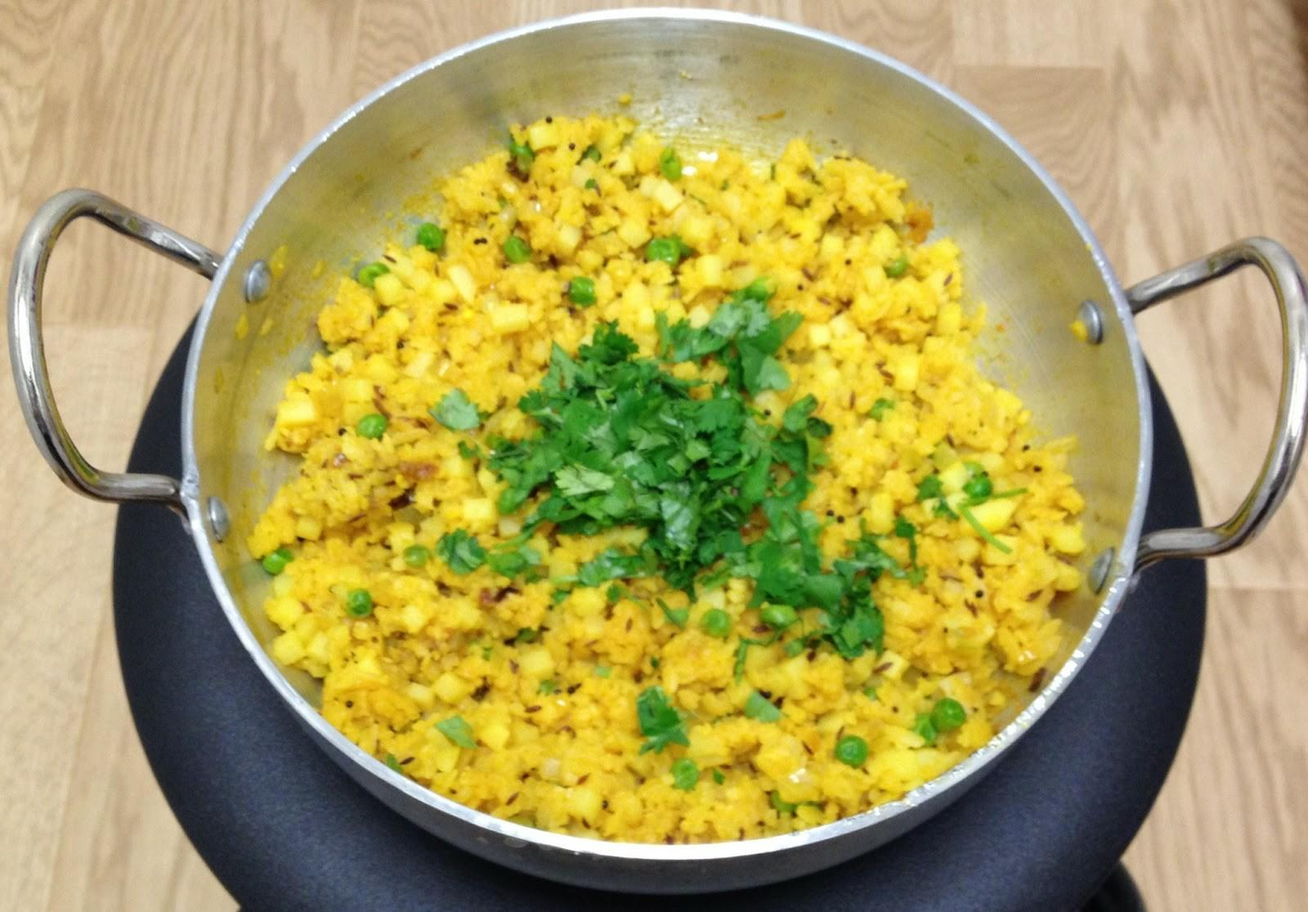Poha: (264, 115, 1085, 839)
